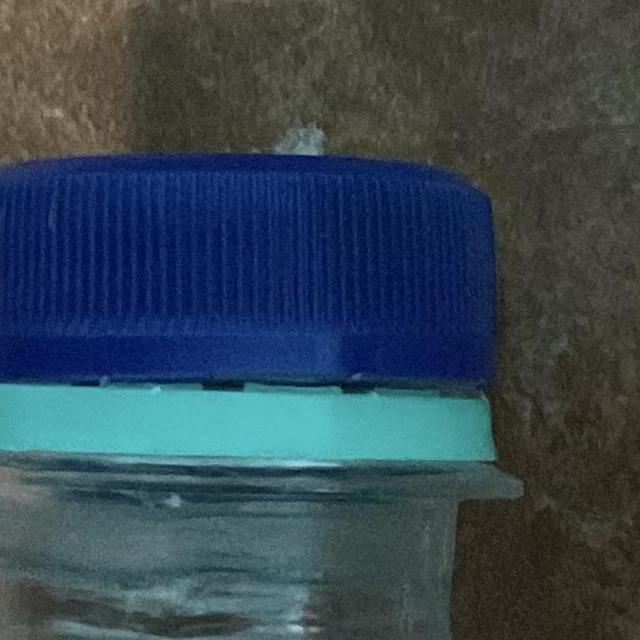Good-cap-Df0S: (0, 136, 540, 503)
